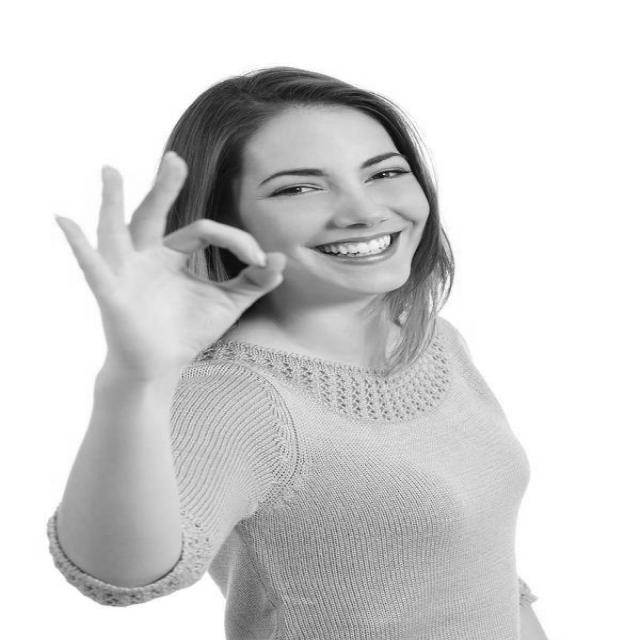perfect: (43, 144, 293, 388)
